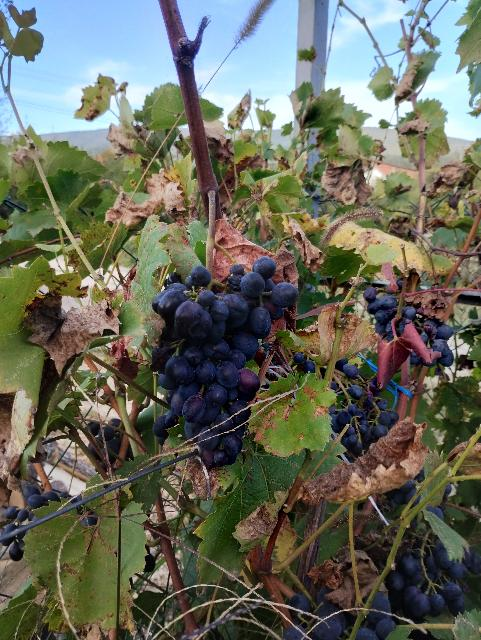grapes: (151, 258, 299, 466)
